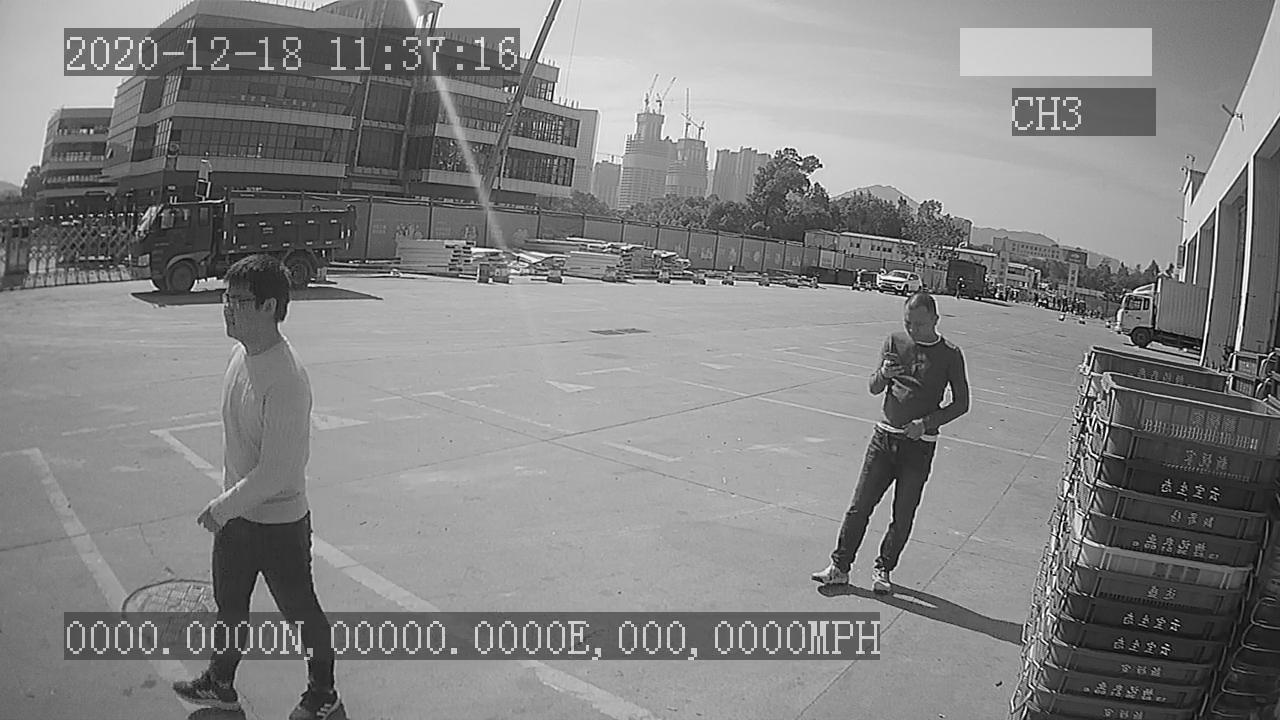person: (808, 293, 973, 594)
